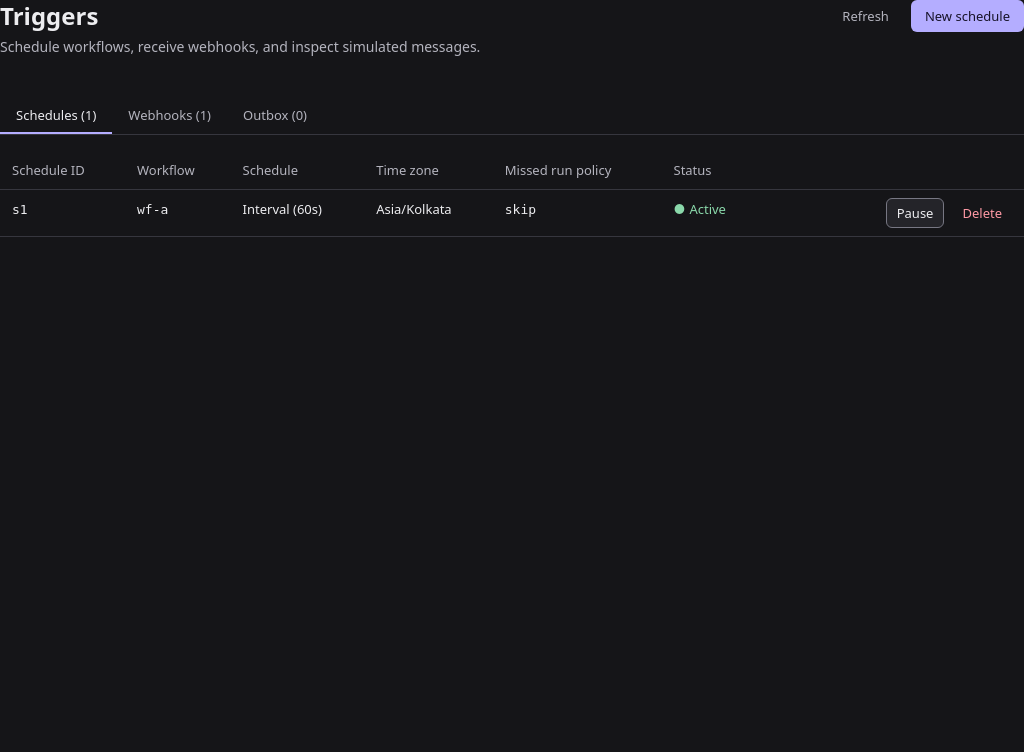
Test case: Round 5 review fixes › M2: the signing secret is masked until Show, and Copy reads it from memory
Click the tab "Webhooks (1)" at x=170, y=116, box top-left (112, 98), bottom-right (227, 134)
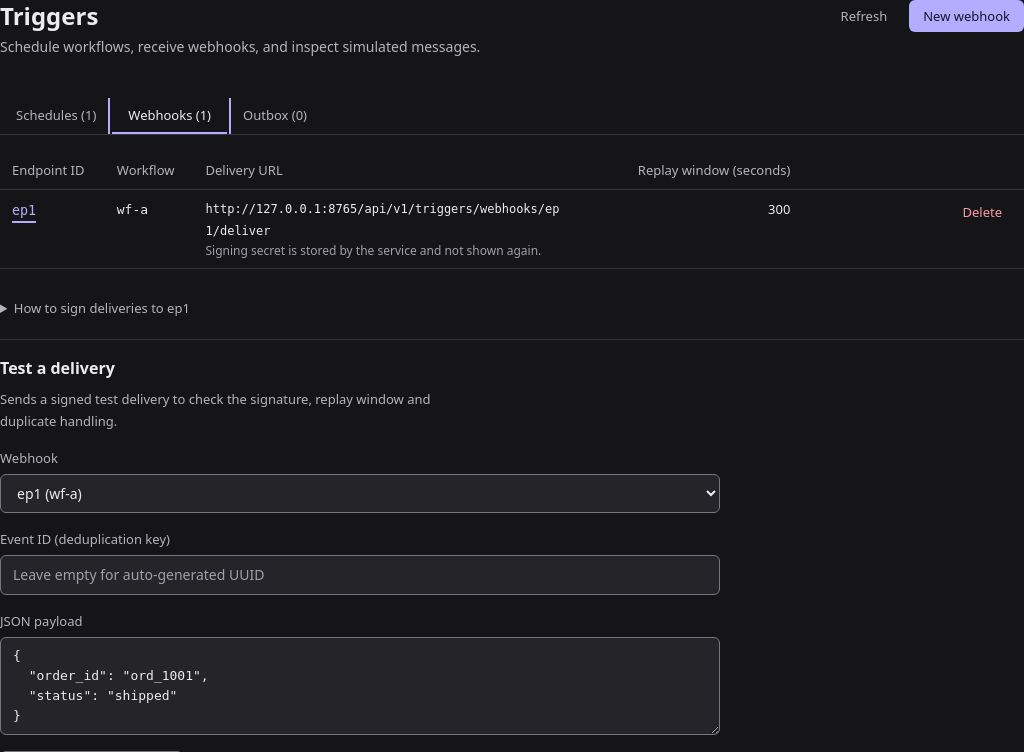
Click the button "New webhook" at x=967, y=16, box top-left (909, 0), bottom-right (1023, 32)
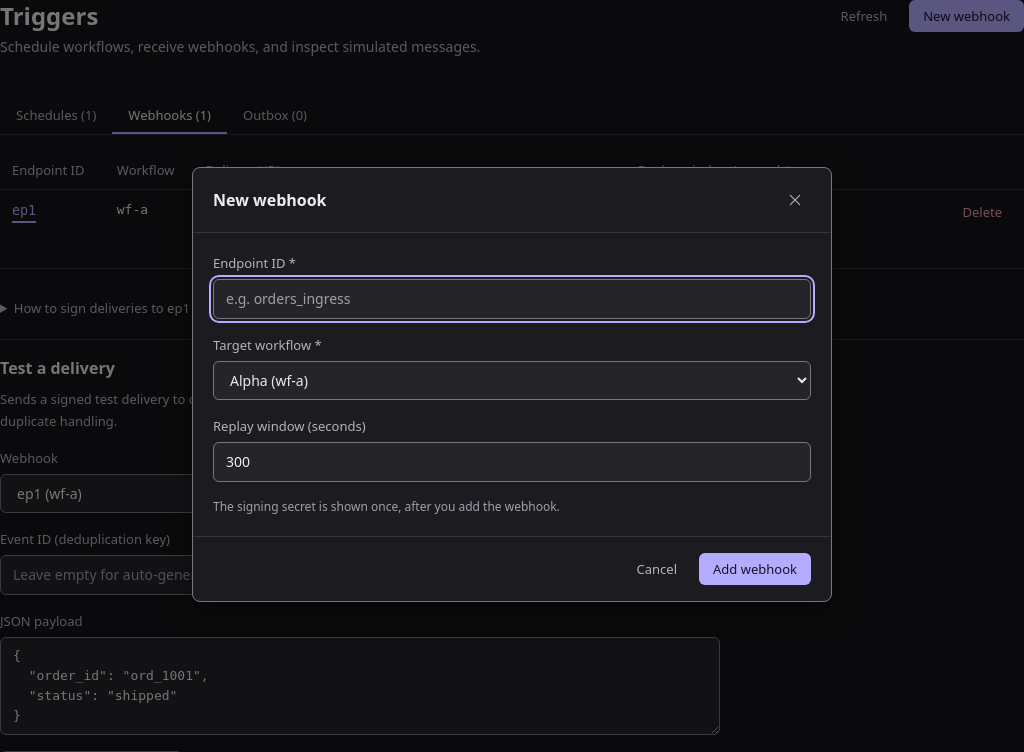
Type "ep1" into the field with test id "input-new-webhook-id" at x=512, y=298, box top-left (213, 278), bottom-right (811, 318)
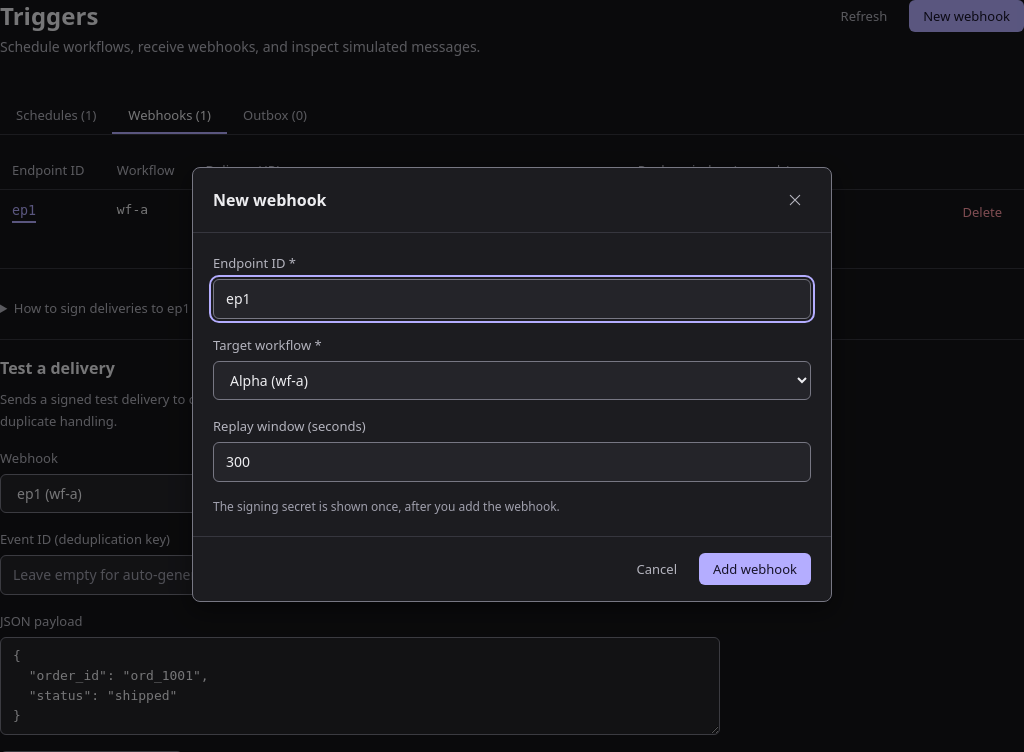
Check: the dropdown with test id "select-new-webhook-wfid" is enabled, box top-left (213, 360), bottom-right (811, 400)
Click the button with test id "btn-submit-register-webhook" at x=755, y=568, box top-left (699, 552), bottom-right (811, 584)
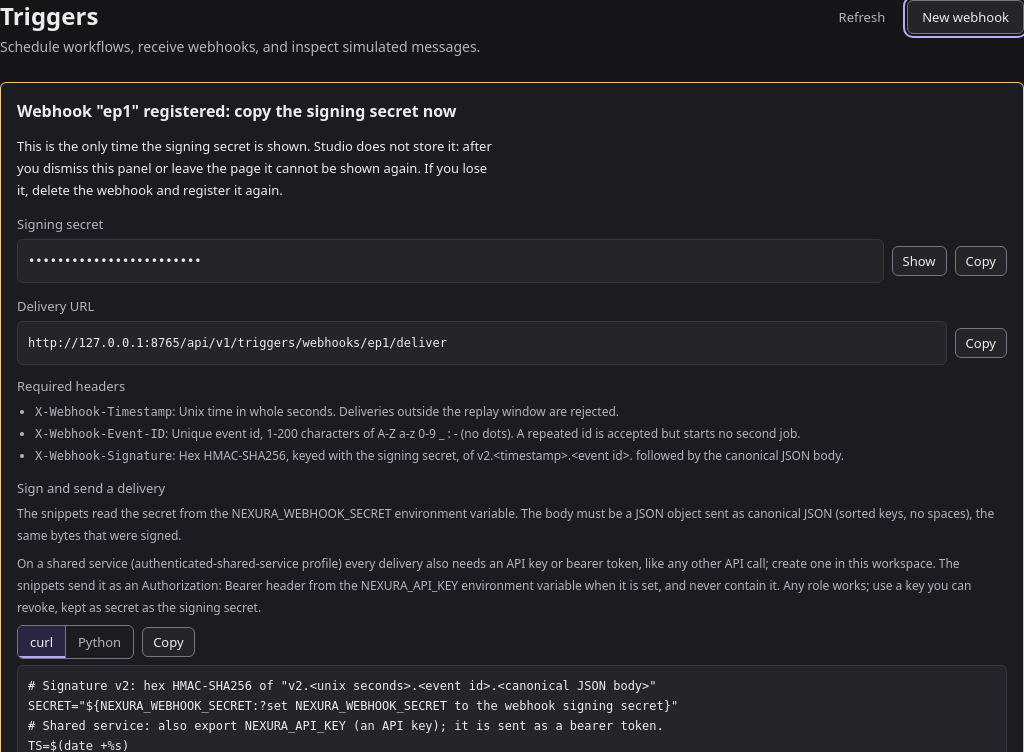
Check: the text "whsec_unit_signing_sentinel_0123456789abcdef" is not shown
Click the button with test id "webhook-secret-copy" at x=981, y=261, box top-left (954, 246), bottom-right (1007, 276)
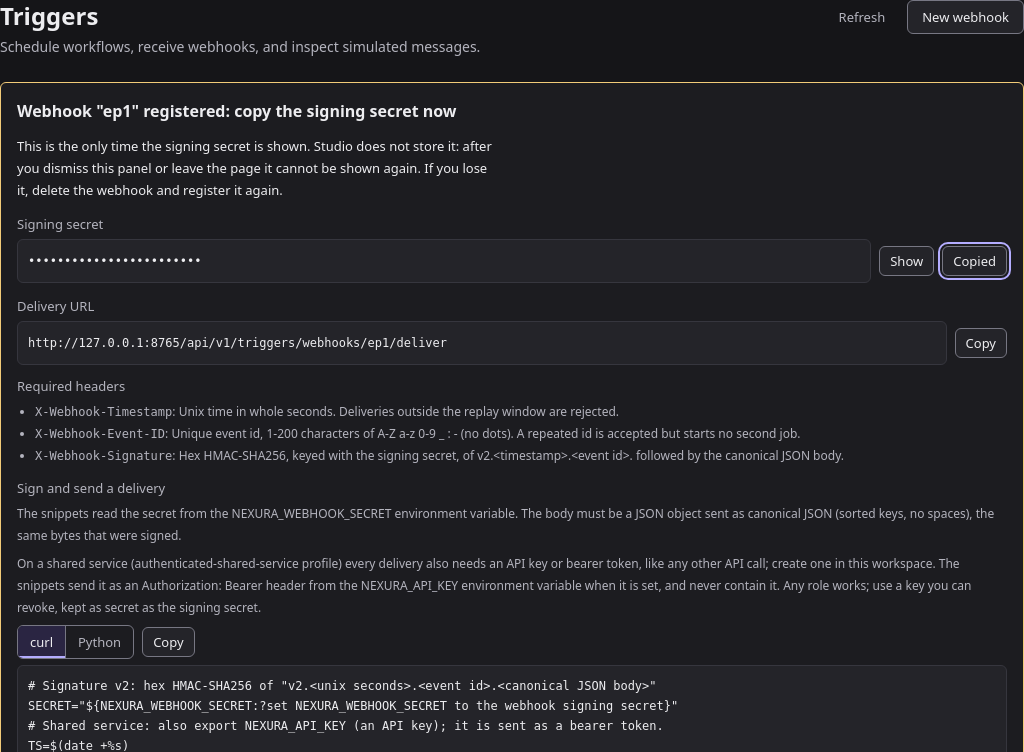
Check: the text "whsec_unit_signing_sentinel_0123456789abcdef" is not shown
Click the button with test id "webhook-secret-reveal" at x=907, y=261, box top-left (879, 246), bottom-right (934, 276)
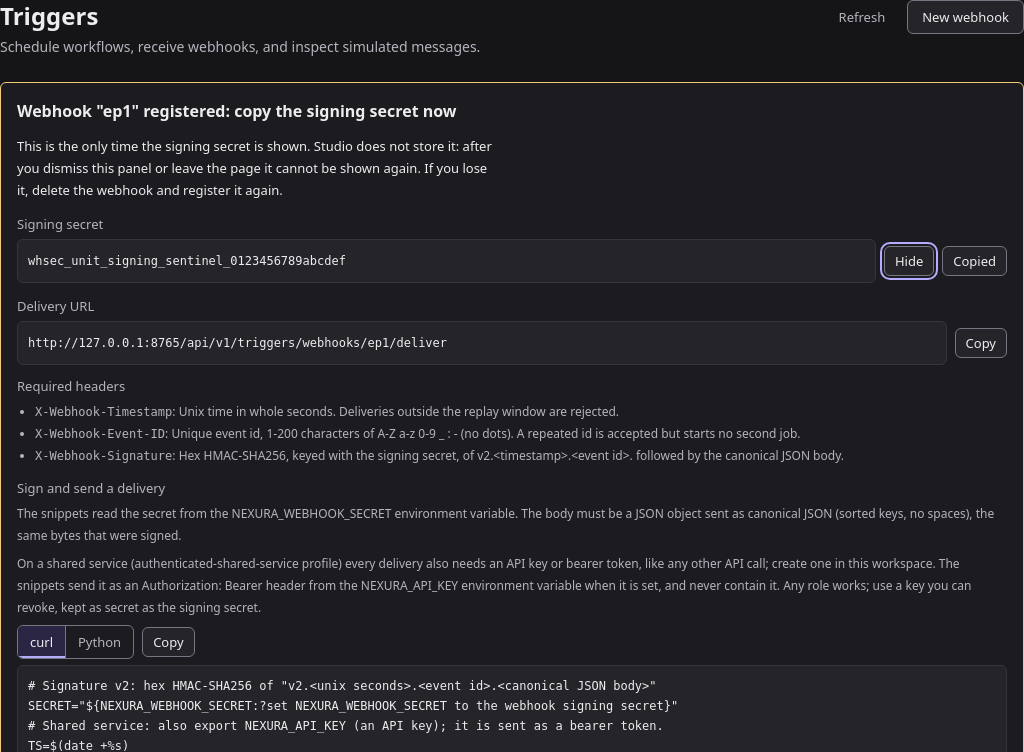
Check: the text with test id "webhook-secret-value" reads "whsec_unit_signing_sentinel_0123456789abcdef", box top-left (28, 254), bottom-right (346, 268)
